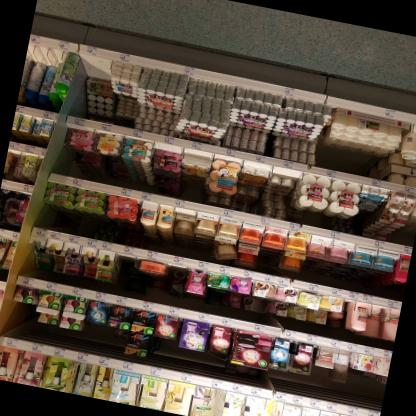empty_space: (158, 264, 188, 308), (110, 255, 135, 297)
